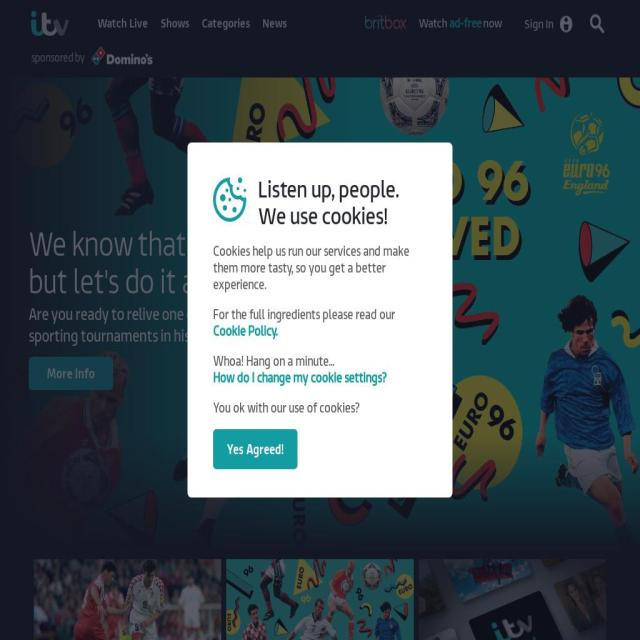button: (225, 559, 414, 640), (418, 559, 606, 640), (34, 559, 221, 640), (213, 429, 298, 469), (516, 0, 583, 48), (29, 356, 113, 390), (29, 364, 113, 382), (584, 0, 611, 47)
heading: (31, 303, 609, 347), (29, 224, 318, 300), (258, 174, 399, 204), (258, 201, 388, 231), (31, 50, 85, 66)
image: (0, 0, 640, 640), (0, 78, 640, 558), (0, 78, 640, 552), (0, 0, 640, 47), (225, 559, 414, 640), (418, 559, 606, 640), (34, 559, 221, 640), (31, 0, 69, 47), (213, 173, 246, 225), (91, 47, 154, 65), (365, 14, 407, 29), (590, 14, 604, 34), (559, 15, 573, 33)
link: (213, 369, 386, 386), (213, 323, 278, 339), (98, 15, 148, 31), (202, 15, 250, 31), (449, 15, 482, 31), (160, 15, 190, 31), (262, 15, 287, 31)
text: (213, 242, 427, 292), (213, 399, 427, 416), (213, 306, 395, 322), (213, 353, 334, 369), (516, 16, 554, 32), (419, 15, 449, 31), (481, 15, 502, 31)
